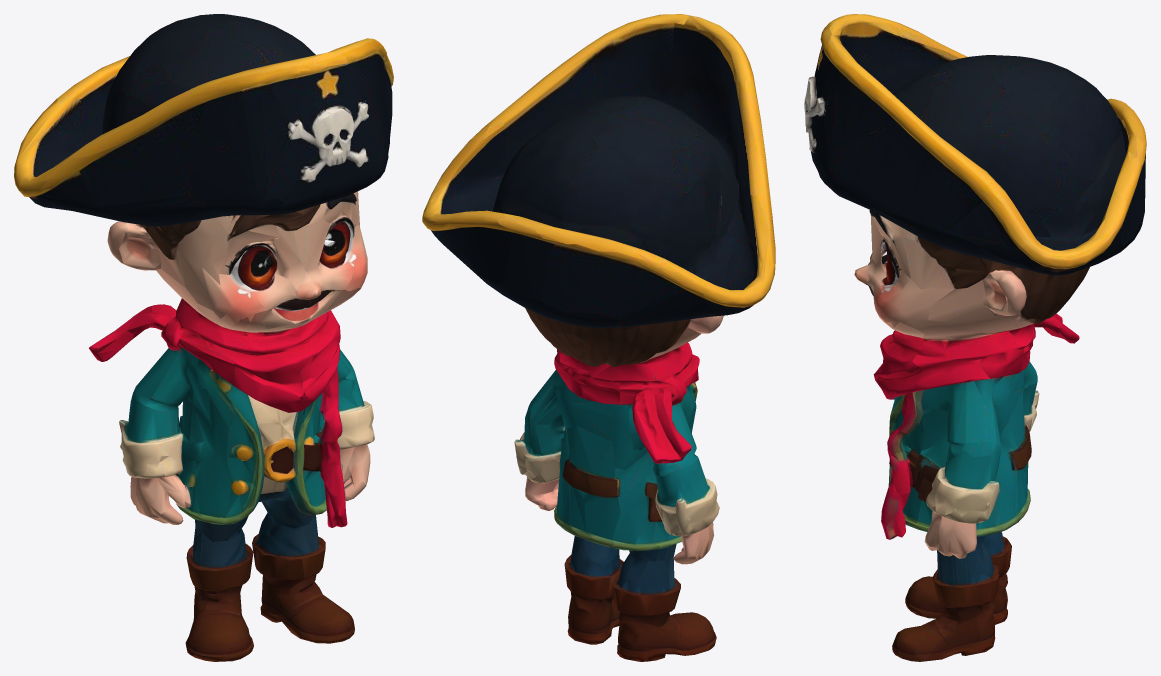
Rendered from pirate.glb.
The picture shows the model from 3 angles, left to right: view 1: azimuth 30°, elevation 25°; view 2: azimuth 150°, elevation 25°; view 3: azimuth 270°, elevation 25°; orthographic projection. The views are drawn at different scales.
Parts seen in each view (by area): view 1: Mesh_0; view 2: Mesh_0; view 3: Mesh_0.
Part boxes in pixels (x1=…): Mesh_0: x1=14, y1=14, x2=393, y2=661; Mesh_0: x1=422, y1=14, x2=775, y2=661; Mesh_0: x1=804, y1=14, x2=1146, y2=661.
Bounding box in the file's own units: 1.15 × 1.9 × 0.9902.
1 material, 1 textured.
